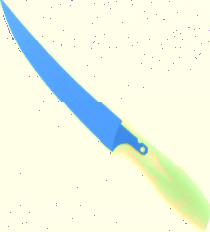Knife: (1, 1, 209, 229)
